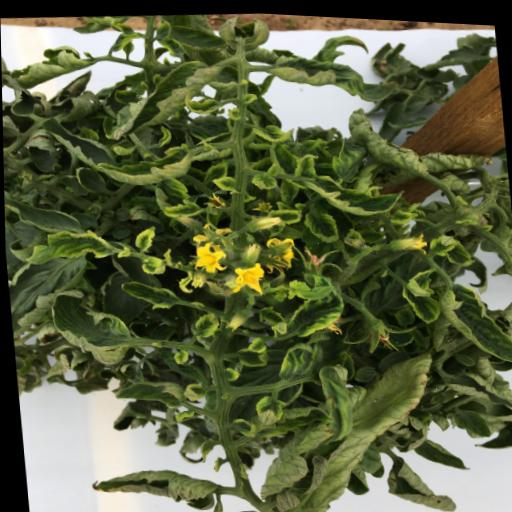Yellow Leaf Curl Virus: (44, 283, 138, 369), (300, 164, 406, 218), (91, 139, 197, 190), (269, 276, 346, 337), (18, 223, 111, 268), (111, 374, 184, 412), (396, 261, 441, 322), (271, 336, 320, 381), (118, 275, 179, 311), (300, 205, 338, 240), (158, 194, 203, 220), (252, 389, 285, 424), (250, 118, 296, 141), (253, 300, 286, 332), (182, 90, 221, 114), (442, 234, 474, 263), (154, 33, 185, 59), (288, 148, 319, 174), (235, 342, 268, 366), (191, 308, 219, 336), (131, 222, 156, 250), (427, 228, 456, 252), (136, 252, 166, 274), (386, 202, 418, 221), (209, 172, 236, 190), (181, 380, 204, 400), (242, 332, 265, 350), (155, 16, 171, 37), (171, 346, 187, 364)
